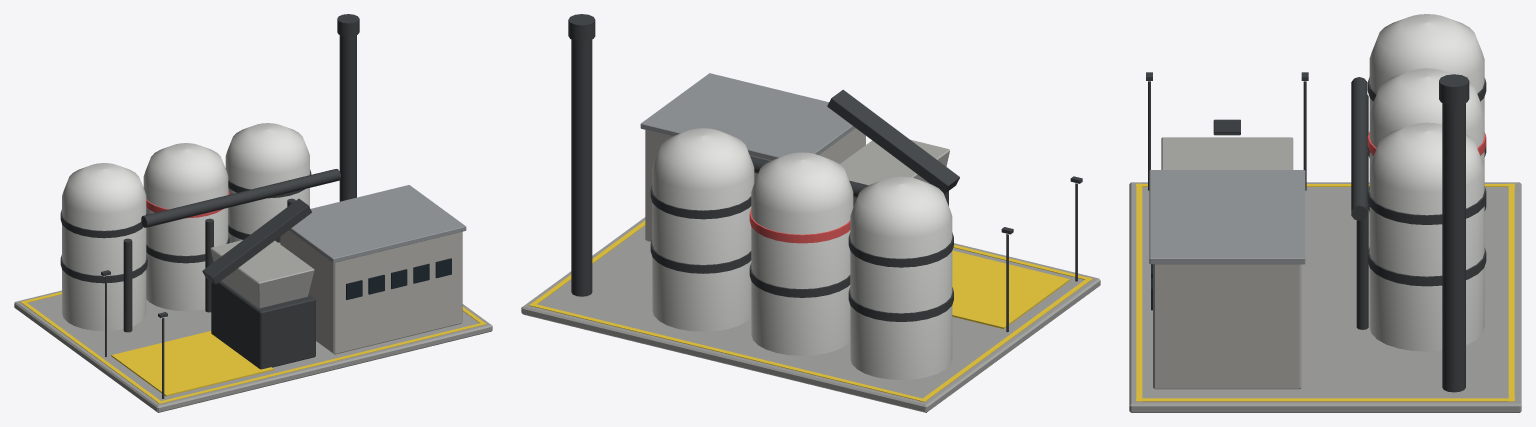
The model's file is refinery.glb.
3 renders of one model, left to right at view 1: azimuth 30°, elevation 25°; view 2: azimuth 150°, elevation 25°; view 3: azimuth 270°, elevation 25°, orthographic. The views are drawn at different scales.
Parts seen in each view (by area): view 1: Base; view 2: Base; view 3: Base.
Part boxes in pixels (x1,y1,x2,y2): Base: [14, 14, 492, 412]; Base: [521, 14, 1100, 412]; Base: [1129, 14, 1521, 412].
Size of the model in its own units: 15.6 by 10.3 by 11.6.
